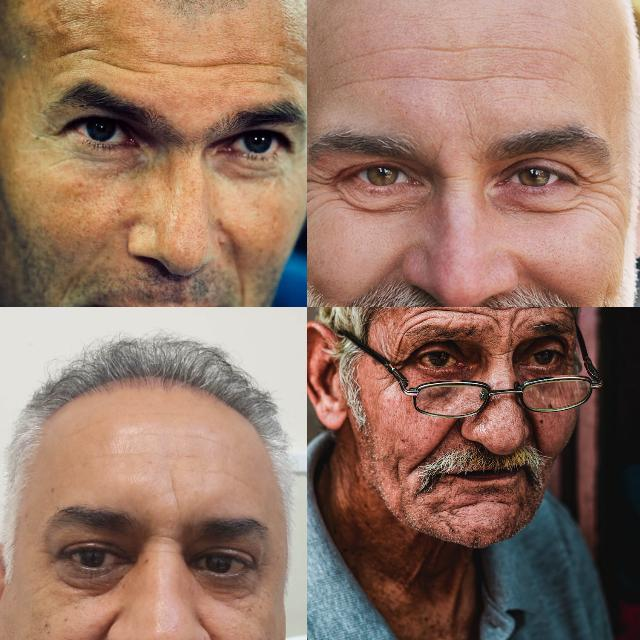chin: (441, 498, 489, 520), (489, 489, 519, 511)
crows_feet: (576, 164, 614, 212), (307, 165, 335, 204)
forehead: (166, 50, 292, 88), (58, 42, 148, 78), (372, 64, 454, 92), (474, 34, 540, 62), (384, 34, 448, 62), (469, 63, 535, 89), (166, 472, 184, 512), (492, 307, 528, 326), (450, 307, 488, 322), (532, 307, 565, 321), (406, 307, 441, 319)
frown_line: (156, 530, 182, 546)
gummy_smile: (412, 421, 462, 459), (222, 232, 250, 290), (76, 612, 109, 640)
masseter: (386, 453, 406, 489)
